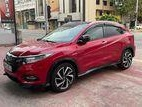car: (3, 19, 135, 93)
